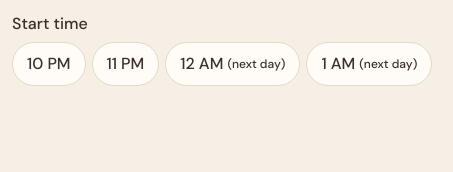
Test: HourPicker › selects by click and moves with the arrow keys
Click the radio button labelled "11 PM": (125, 64) top-left (92, 42), bottom-right (159, 86)
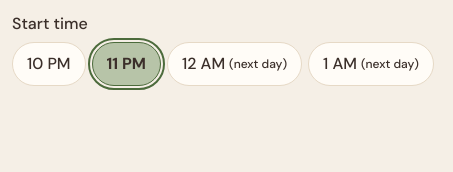
Press Arrowright
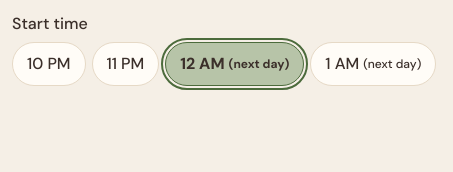
Now the radio button labelled "12 AM (next day)" is checked, box top-left (165, 42), bottom-right (304, 86)
